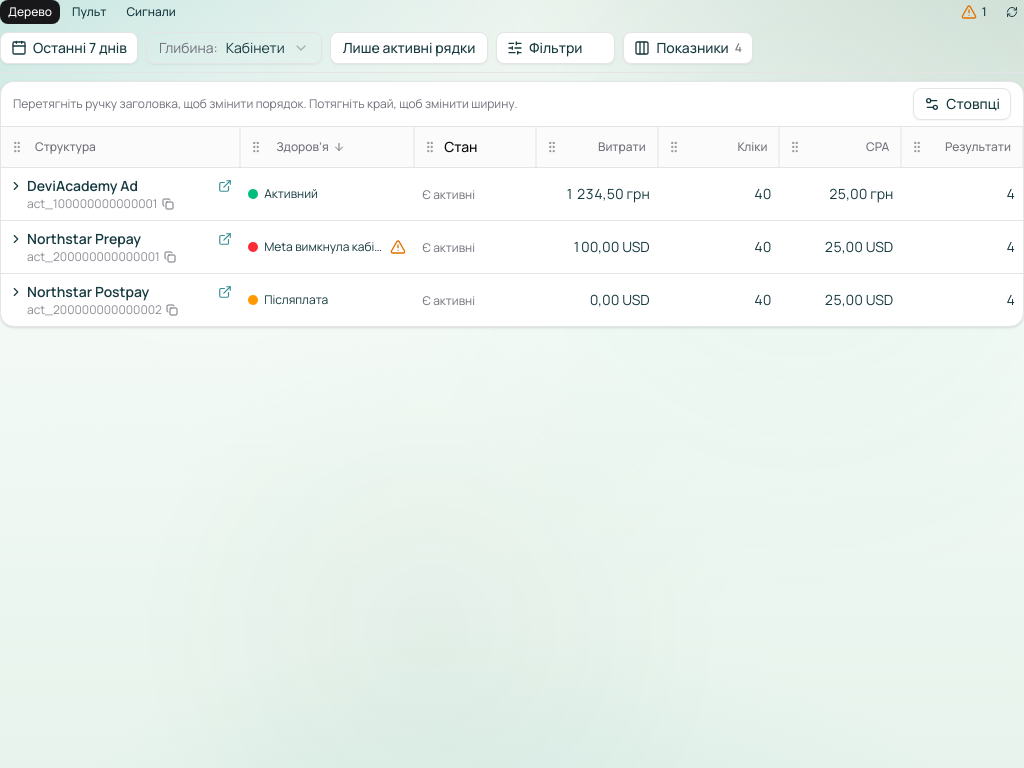
Scenario: Fleet Board › synchronization health icons › clears the icon once the affected slice recovers, leaving no dismiss control while it persists
The width and height of the screenshot is (1024, 768).
What coordinates should you click on to do the following:
click the button named "Синхронізація застаріла: Northstar Prepay"
I would click on:
 (398, 246)
Its box is [390,238,406,254].
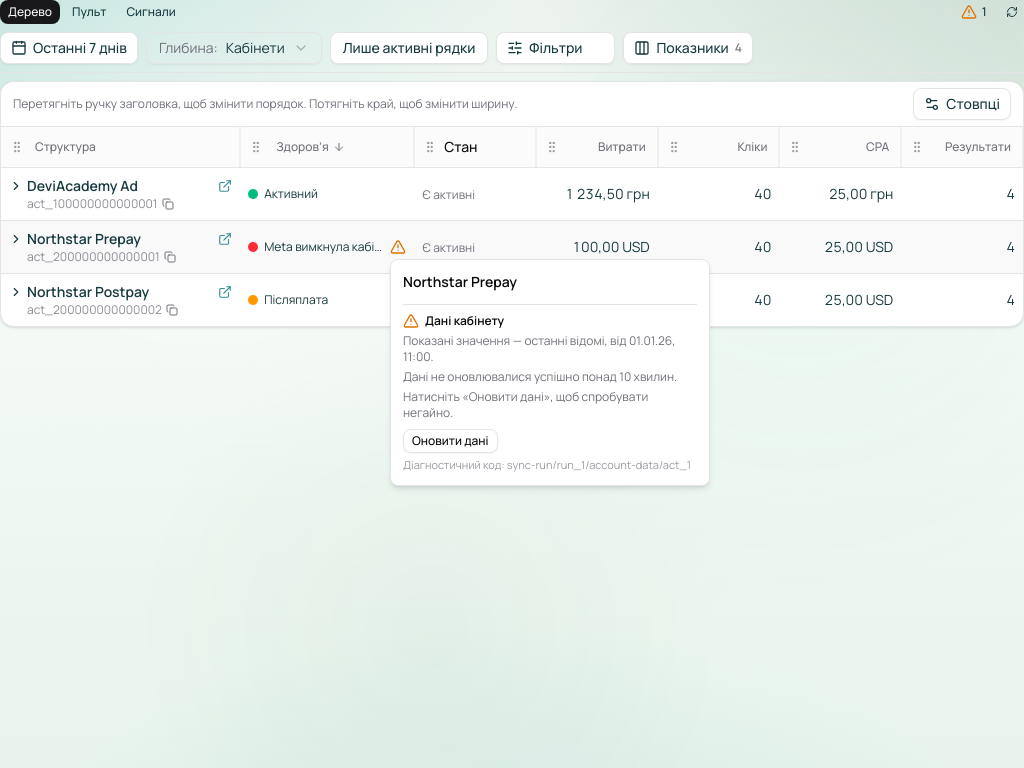
Expected: the button named "Потребують уваги: 1" is shown, [960,4,988,20]
Expected: the text "Дані кабінету" is shown, [403,312,504,329]
